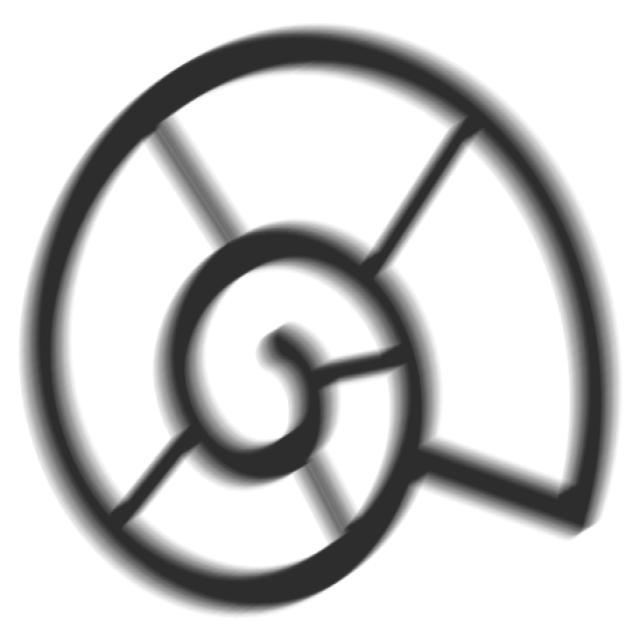fossil: (12, 15, 631, 629)
